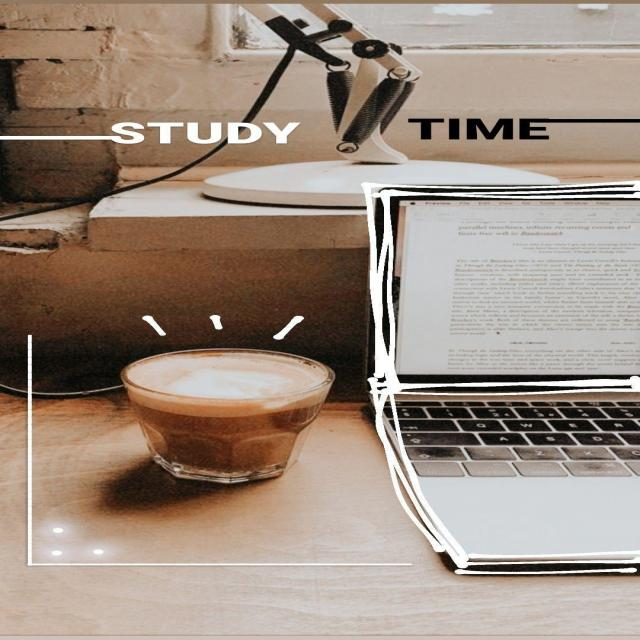glass-normal: (117, 346, 338, 484)
